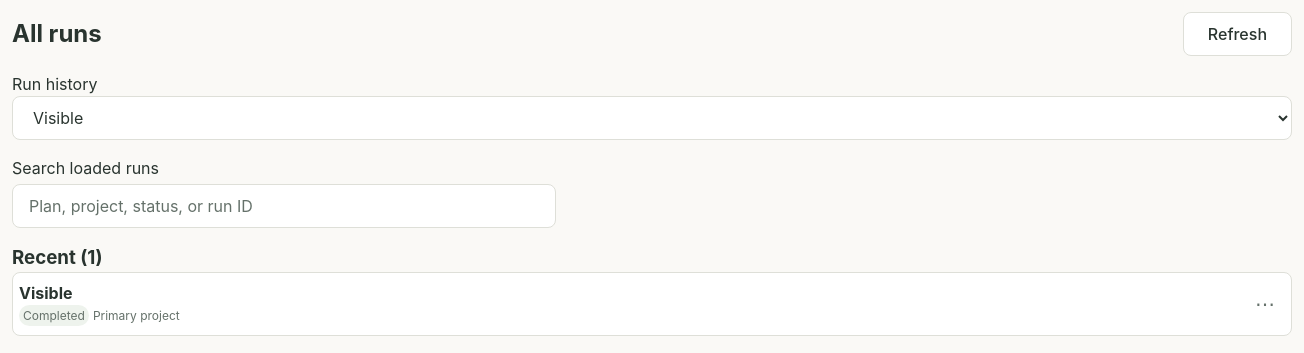
Scenario: GlobalRunOverview project context › requests and displays the selected archived history without changing run identity
This screenshot has width=1304, height=353.
Check: the button with aria-label "Primary project · Completed · Visible" is shown, box [13,273,1241,336]
Select "Archived" in the dropdown labelled "Run history": (652,118) [12,96,1292,140]
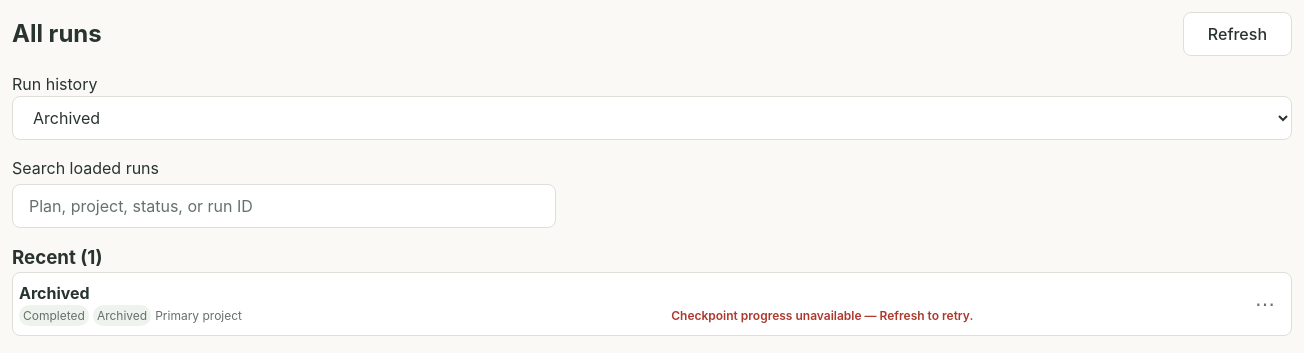
Check: the button with aria-label "Primary project · Completed · Archived" is shown, box [13,273,1241,336]
